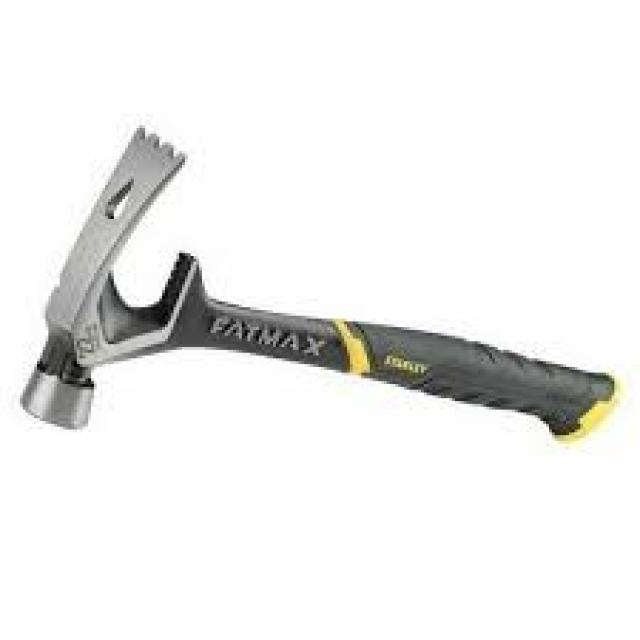Palu: (19, 112, 624, 457)
